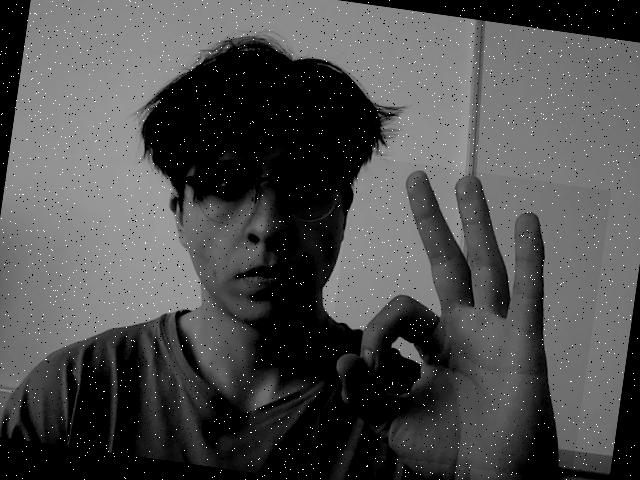OK: (315, 155, 612, 480)
